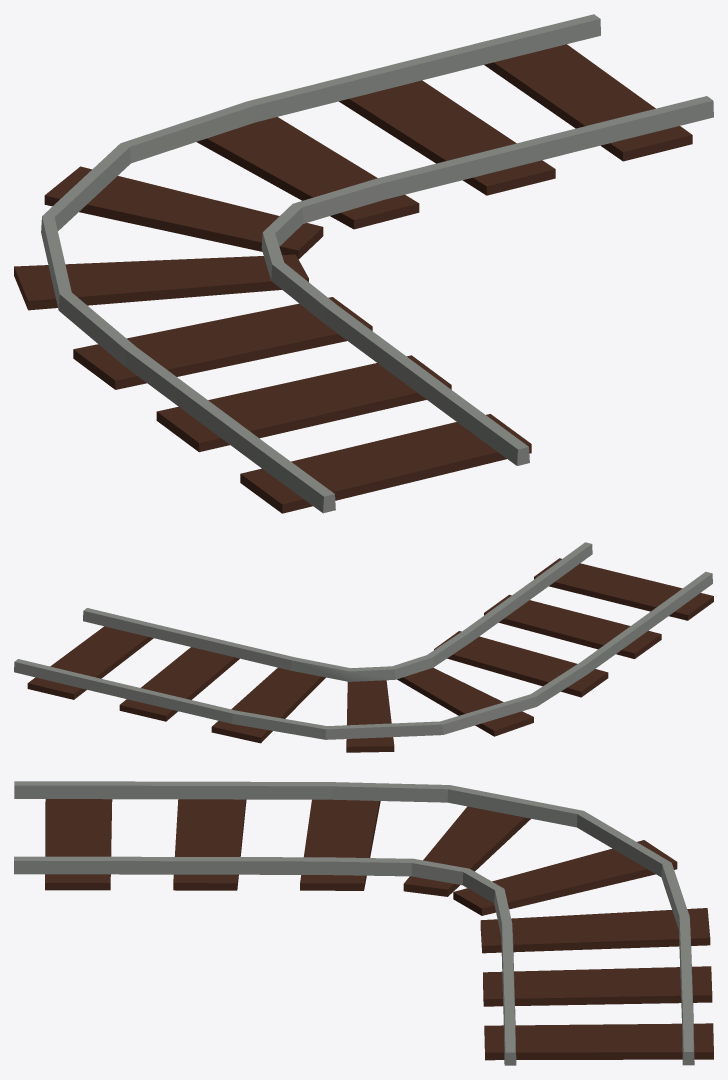
The model's file is MiningTrackCurved.glb.
3 views of the same model, one above another, from view 1: azimuth 30°, elevation 25°; view 2: azimuth 150°, elevation 25°; view 3: azimuth 270°, elevation 25° (orthographic). The views are drawn at different scales.
Visible parts, largest first — view 1: MiningTrackCurved; view 2: MiningTrackCurved; view 3: MiningTrackCurved.
Part boxes in pixels (<box>): MiningTrackCurved: <box>14,14,713,513</box>; MiningTrackCurved: <box>14,542,713,752</box>; MiningTrackCurved: <box>14,781,713,1065</box>.
Size of the model in its own units: 2.02 by 0.07 by 2.14.
1 material, 1 textured.
